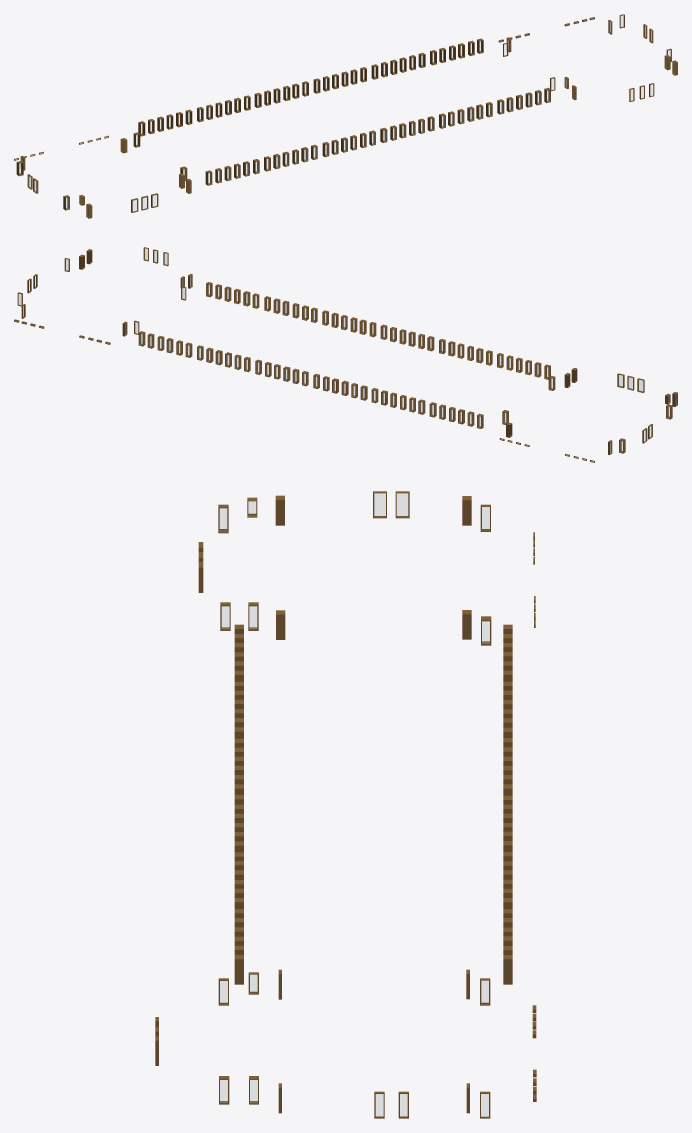
Rendered from insaat_revit.ifc.ifc.ifc.ifc_105.5 Yapı Statiği_IfcWindow.dae.
3 renders of one model, top to bottom at view 1: azimuth 30°, elevation 25°; view 2: azimuth 150°, elevation 25°; view 3: azimuth 270°, elevation 25°, orthographic. The views are drawn at different scales.
Bounding box in the file's own units: 76.22 × 20.41 × 2.75.
